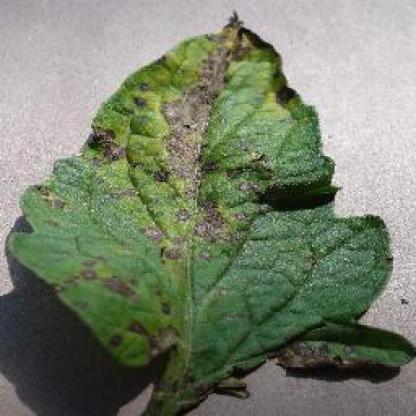Tomato_Blight: (7, 9, 415, 401)
